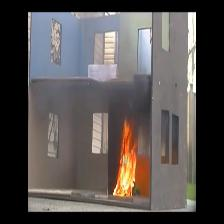fire: (119, 122, 135, 197)
smoke: (114, 77, 148, 114)
